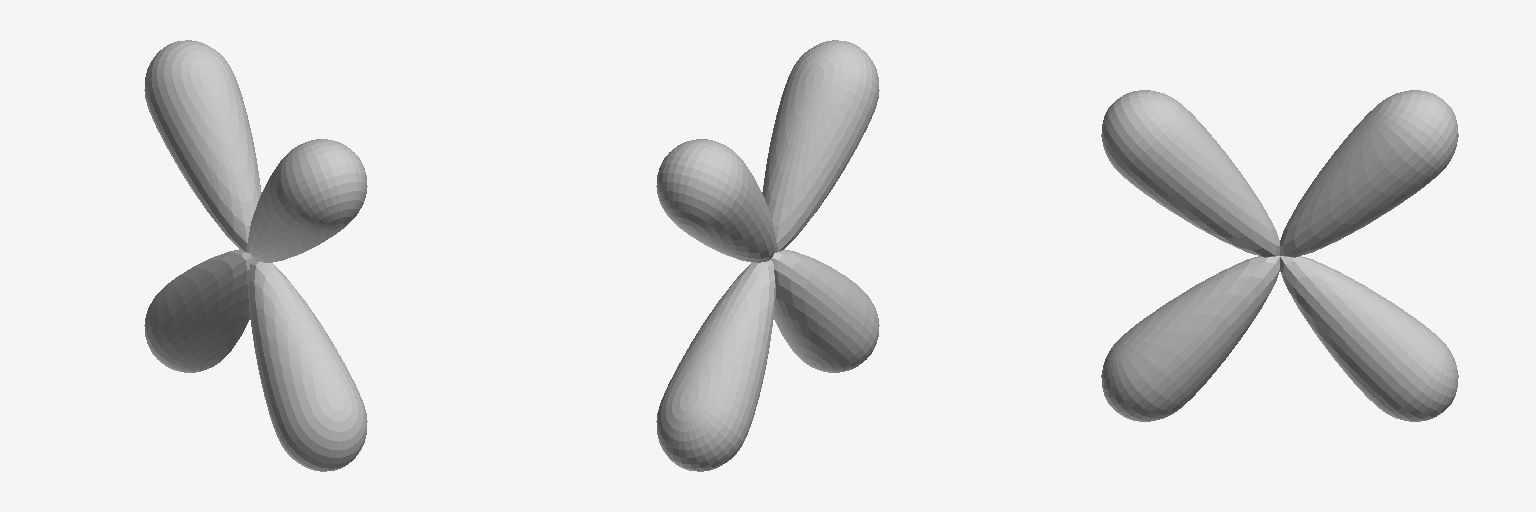
3 views of the same model, side by side, from view 1: azimuth 30°, elevation 25°; view 2: azimuth 150°, elevation 25°; view 3: azimuth 270°, elevation 25° (orthographic).
Parts seen in each view (by area): view 1: dz.005, dx.005; view 2: dx.005, dz.005; view 3: dz.005, dx.005.
Part boxes in pixels (x1,y1,x2,y2): dz.005: (144,40,367,471); dx.005: (144,139,367,372); dx.005: (656,40,879,471); dz.005: (656,139,879,372); dz.005: (1101,90,1458,421); dx.005: (1101,90,1458,421).
Size of the model in its own units: 53.77 by 206 by 206.